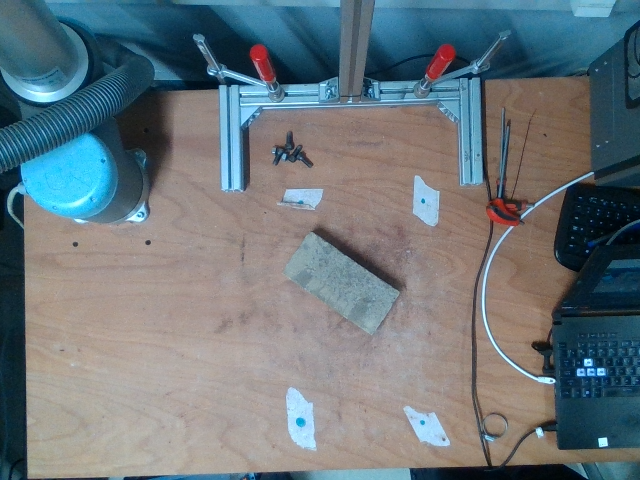brick: (283, 233, 398, 333)
